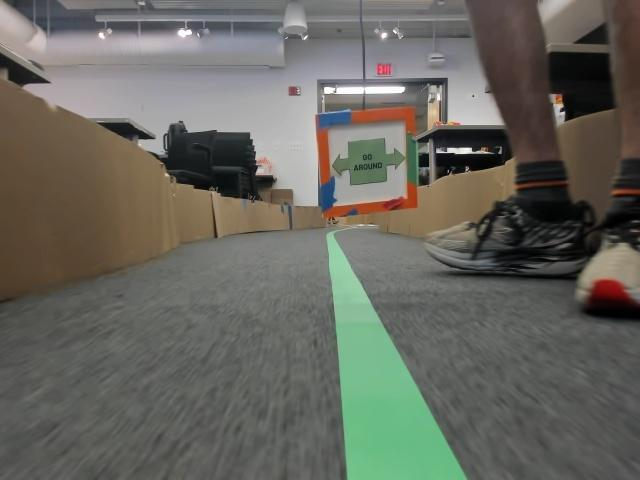Go Around: (330, 142, 403, 185)
